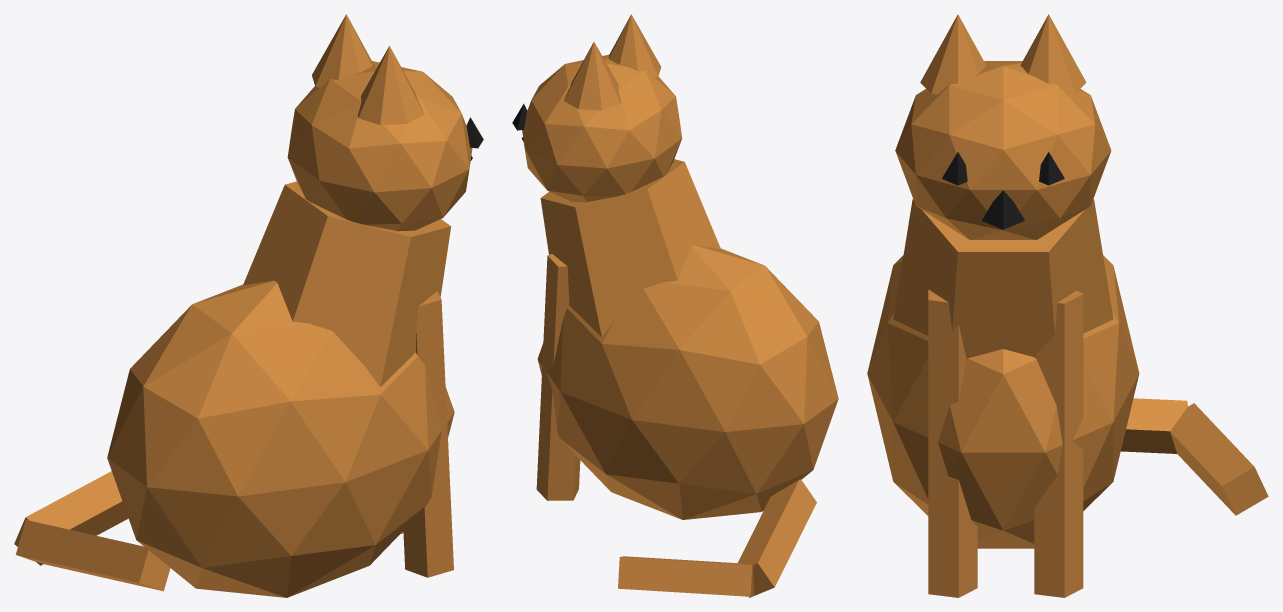
File: katt_1.glb
3 renders of one model, left to right at view 1: azimuth 30°, elevation 25°; view 2: azimuth 150°, elevation 25°; view 3: azimuth 270°, elevation 25°, orthographic. The views are drawn at different scales.
Parts seen in each view (by area): view 1: katt_1; view 2: katt_1; view 3: katt_1.
Part boxes in pixels (box(x1,y1,x2,y2)): katt_1: box(14, 14, 483, 597); katt_1: box(512, 14, 838, 597); katt_1: box(867, 14, 1268, 597).
Size of the model in its own units: 0.3012 by 0.415 by 0.2655.
